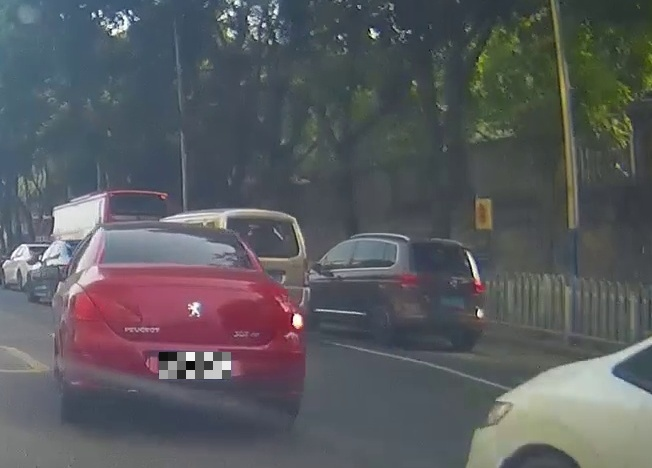L_light: (72, 293, 141, 322), (396, 270, 425, 287)
R_light: (270, 307, 305, 331), (465, 279, 484, 294)
T_light: (154, 225, 180, 229), (433, 241, 451, 246)
day-no: (386, 235, 486, 352)
day-right: (56, 221, 305, 430)
plate_1: (159, 352, 231, 379)
